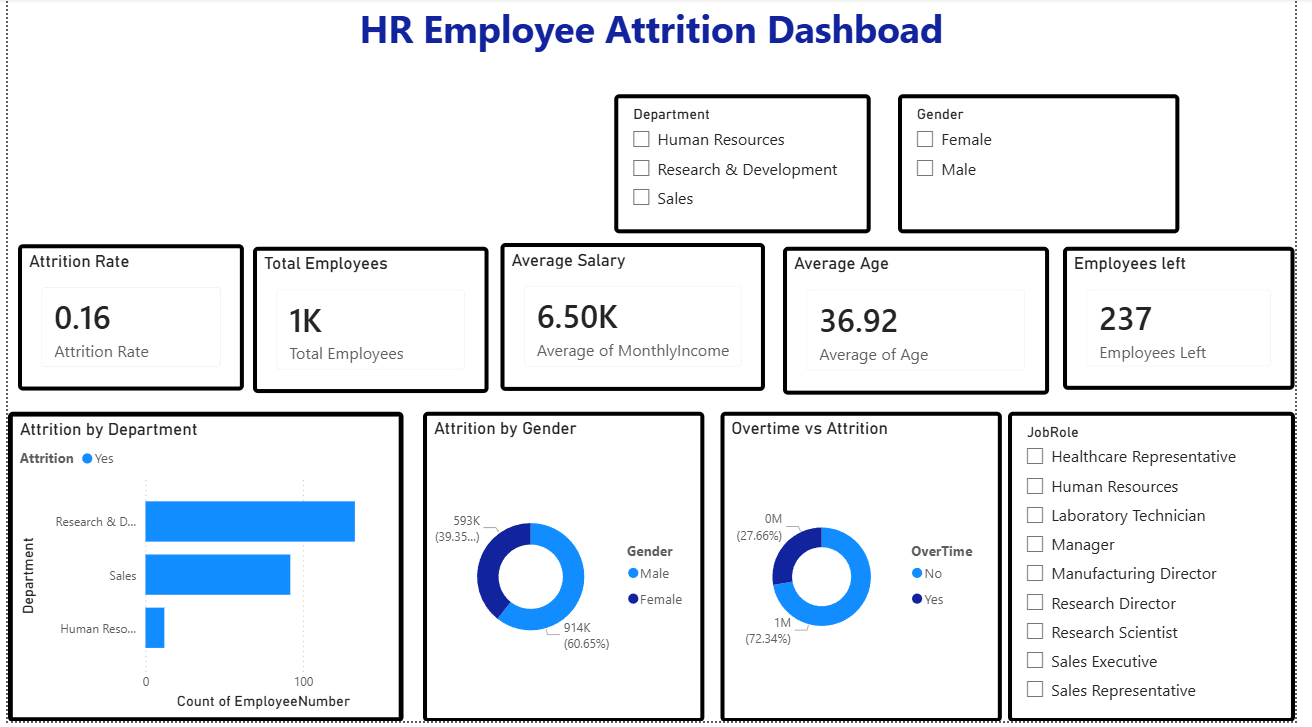

The dashboard page shown, as its layout file describes it:
{"tool":"powerbi","page":{"name":"Page 1","canvas":[1280,720],"ordinal":0},"visuals":[{"type":"cardVisual","title":"Average Salary","fields":{"Data":["Avg(HR_Attrition.MonthlyIncome)"]},"box":[489.9,244.3,263.5,146.8],"z":0},{"type":"cardVisual","title":"Average Age","fields":{"Data":["Avg(HR_Attrition.Age)"]},"box":[771.2,247,264.8,146.8],"z":1000},{"type":"clusteredBarChart","title":"Attrition by Department","fields":{"Category":["HR_Attrition.Department"],"Y":["CountNonNull(HR_Attrition.EmployeeNumber)"],"Series":["HR_Attrition.Attrition"]},"box":[0,411.7,393.8,308.7],"z":2000},{"type":"donutChart","title":"Attrition by Gender","fields":{"Category":["HR_Attrition.Gender"],"Y":["Sum(HR_Attrition.EmployeeNumber)"]},"box":[413,411.7,279.9,308.7],"z":3000},{"type":"donutChart","title":"Overtime vs Attrition","fields":{"Category":["HR_Attrition.OverTime"],"Y":["Sum(HR_Attrition.EmployeeNumber)"]},"box":[709.4,411.7,279.9,308.7],"z":4000},{"type":"cardVisual","title":"Total Employees","fields":{"Data":["HR_Attrition.Total Employees"]},"box":[244.3,247,234.6,145.5],"z":5000},{"type":"cardVisual","title":"Employees left","fields":{"Data":["HR_Attrition.Employees Left"]},"box":[1049.7,247,230.5,142.7],"z":6000},{"type":"cardVisual","title":"Attrition Rate","fields":{"Data":["HR_Attrition.Attrition Rate"]},"box":[9.6,245.6,225,145.5],"z":7000},{"type":"slicer","fields":{"Values":["HR_Attrition.Department"]},"box":[603.8,96.1,255.2,138.6],"z":8000},{"type":"slicer","fields":{"Values":["HR_Attrition.Gender"]},"box":[885.1,96.1,279.9,138.6],"z":9000},{"type":"slicer","fields":{"Values":["HR_Attrition.JobRole"]},"box":[994.9,411.7,285.4,308.7],"z":10000},{"type":"textbox","box":[0,0,1280.3,79.6],"z":11000}]}

Visuals, with their boxes in screenshot pixels (x1, y1, x2, y2), scaled from the page's 1280x720 canvas onto the 1312x727 screenshot:
"Average Salary" cardVisual: (502,247,772,395)
"Average Age" cardVisual: (790,249,1062,398)
"Attrition by Department" clusteredBarChart: (0,416,404,726)
"Attrition by Gender" donutChart: (423,416,710,726)
"Overtime vs Attrition" donutChart: (727,416,1014,726)
"Total Employees" cardVisual: (250,249,491,396)
"Employees left" cardVisual: (1076,249,1311,393)
"Attrition Rate" cardVisual: (10,248,240,395)
slicer - HR_Attrition.Department: (619,97,880,237)
slicer - HR_Attrition.Gender: (907,97,1194,237)
slicer - HR_Attrition.JobRole: (1020,416,1311,726)
textbox: (0,0,1311,80)
